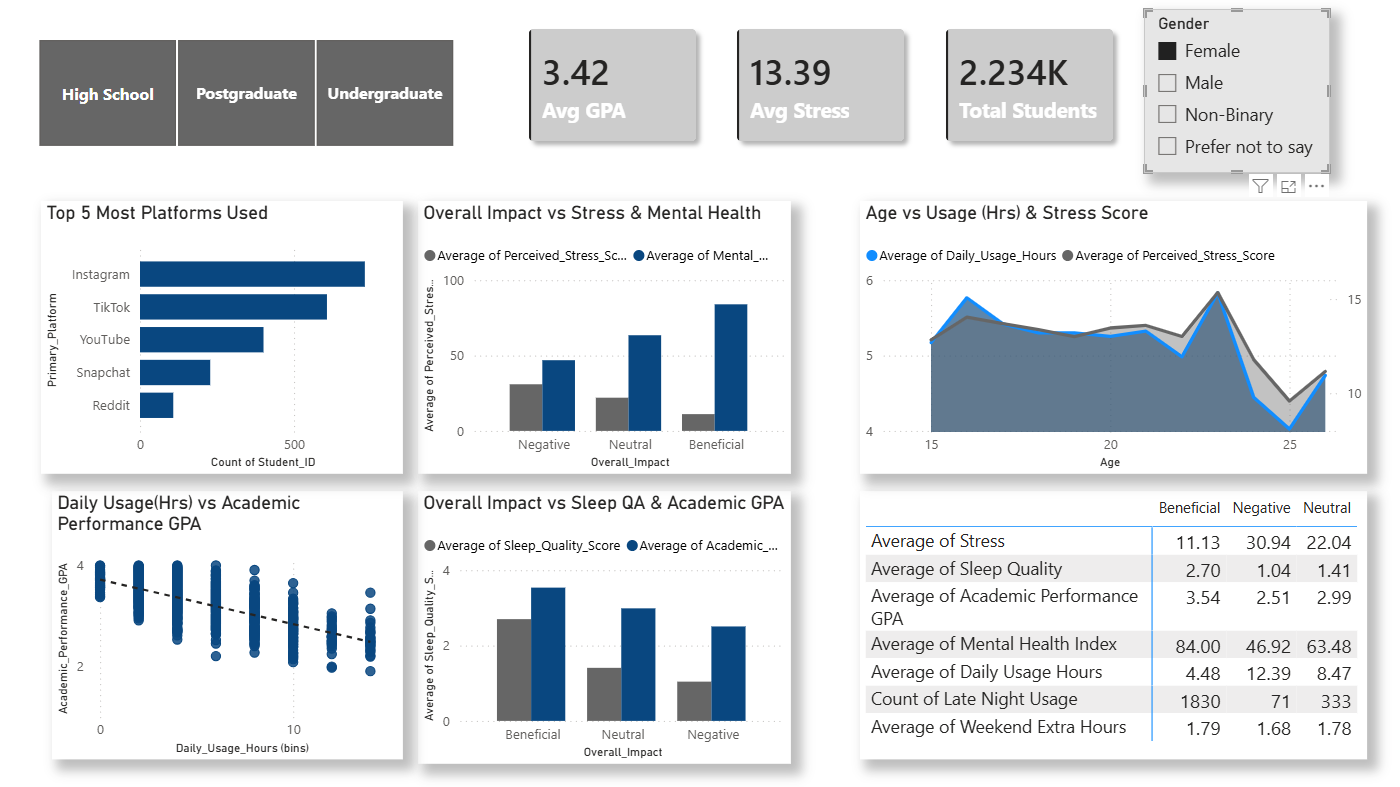

Layout of this report page (visuals, bound fields, positions):
{"tool":"powerbi","page":{"name":"Page 2","canvas":[1280,720],"ordinal":0},"visuals":[{"type":"group","id":"g1","title":"Group 1","box":[455,0,589,160],"z":0},{"type":"cardVisual","fields":{"Data":["_Measures.Promedio GPA"]},"box":[455,0,210.2,160],"z":0,"group":"g1"},{"type":"cardVisual","fields":{"Data":["_Measures.Promedio Stress"]},"box":[644.4,0,210.2,160],"z":1000,"group":"g1"},{"type":"slicer","fields":{"Values":["dataset_limpio.Gender"]},"box":[1044,11,169,149],"z":1000},{"type":"cardVisual","fields":{"Data":["CountNonNull(dataset_limpio.Student_ID)"]},"box":[833.8,0,210.2,160],"z":2000,"group":"g1"},{"type":"clusteredColumnChart","title":"Overall Impact vs Sleep QA & Academic GPA","fields":{"Category":["dataset_limpio.Overall_Impact"],"Y":["Avg(dataset_limpio.Sleep_Quality_Score)","Avg(dataset_limpio.Academic_Performance_GPA)"]},"box":[384,449,339,248],"z":2000},{"type":"clusteredColumnChart","title":"Overall Impact vs Stress & Mental Health","fields":{"Category":["dataset_limpio.Overall_Impact"],"Y":["Avg(dataset_limpio.Perceived_Stress_Score)","Avg(dataset_limpio.Mental_Health_Index)"]},"box":[384,185,339,248],"z":3000},{"type":"scatterChart","title":"Daily Usage(Hrs) vs Academic Performance GPA","fields":{"X":["dataset_limpio.Daily_Usage_Hours (bins)"],"Y":["dataset_limpio.Academic_Performance_GPA"]},"box":[51,449,319,244],"z":4000},{"type":"clusteredBarChart","title":"Top 5 Most Platforms Used","fields":{"Category":["dataset_limpio.Primary_Platform"],"Y":["CountNonNull(dataset_limpio.Student_ID)"]},"box":[41,185,329,248],"z":5000},{"type":"slicer","fields":{"Values":["dataset_limpio.Academic_Level"]},"box":[14,18,426,124],"z":6000},{"type":"pivotTable","fields":{"Columns":["dataset_limpio.Overall_Impact"],"Values":["Avg(dataset_limpio.Perceived_Stress_Score)","Avg(dataset_limpio.Sleep_Quality_Score)","Avg(dataset_limpio.Academic_Performance_GPA)","Avg(dataset_limpio.Mental_Health_Index)","Avg(dataset_limpio.Daily_Usage_Hours)","CountNonNull(dataset_limpio.Late_Night_Usage)","Avg(dataset_limpio.Weekend_Extra_Hours)"]},"box":[785,449,461,244],"z":7000},{"type":"areaChart","title":"Age vs Usage (Hrs) & Stress Score","fields":{"Category":["dataset_limpio.Age"],"Y":["Avg(dataset_limpio.Daily_Usage_Hours)"],"Y2":["Avg(dataset_limpio.Perceived_Stress_Score)"]},"box":[785,185,461,248],"z":8000}]}

Visuals, with their boxes in screenshot pixels (x1, y1, x2, y2), scaled from the page's 1280x720 canvas onto the 1400x787 screenshot:
"Group 1" group: Rect(498, 0, 1142, 175)
cardVisual - _Measures.Promedio GPA: Rect(498, 0, 728, 175)
cardVisual - _Measures.Promedio Stress: Rect(705, 0, 935, 175)
slicer - dataset_limpio.Gender: Rect(1142, 12, 1327, 175)
cardVisual - CountNonNull(dataset_limpio.Student_ID): Rect(912, 0, 1142, 175)
"Overall Impact vs Sleep QA & Academic GPA" clusteredColumnChart: Rect(420, 491, 791, 762)
"Overall Impact vs Stress & Mental Health" clusteredColumnChart: Rect(420, 202, 791, 473)
"Daily Usage(Hrs) vs Academic Performance GPA" scatterChart: Rect(56, 491, 405, 757)
"Top 5 Most Platforms Used" clusteredBarChart: Rect(45, 202, 405, 473)
slicer - dataset_limpio.Academic_Level: Rect(15, 20, 481, 155)
pivotTable - dataset_limpio.Overall_Impact x Avg(dataset_limpio.Perceived_Stress_Score): Rect(859, 491, 1363, 757)
"Age vs Usage (Hrs) & Stress Score" areaChart: Rect(859, 202, 1363, 473)
